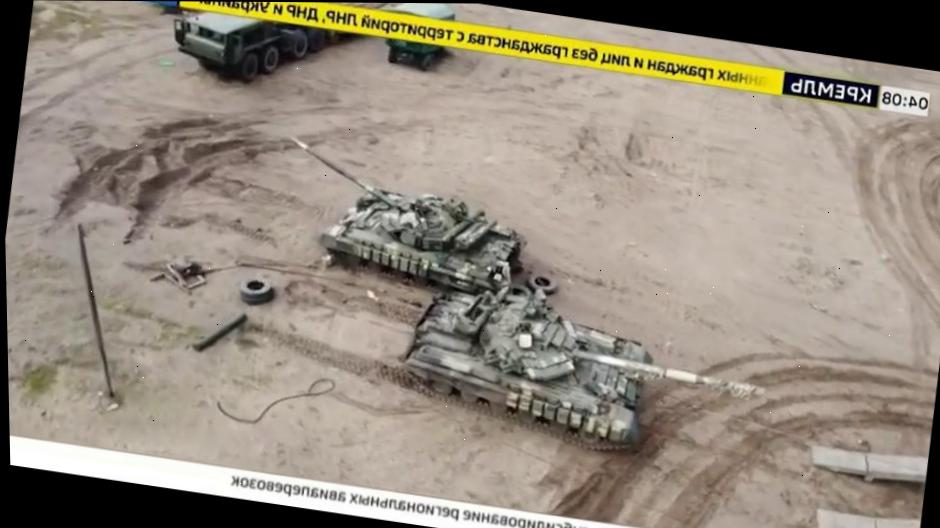tank: (386, 269, 779, 475), (265, 131, 535, 298)
